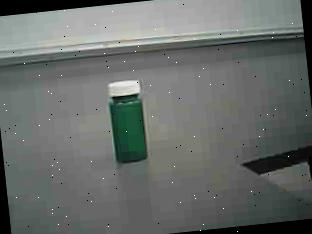Bottle C: (96, 69, 164, 173)
